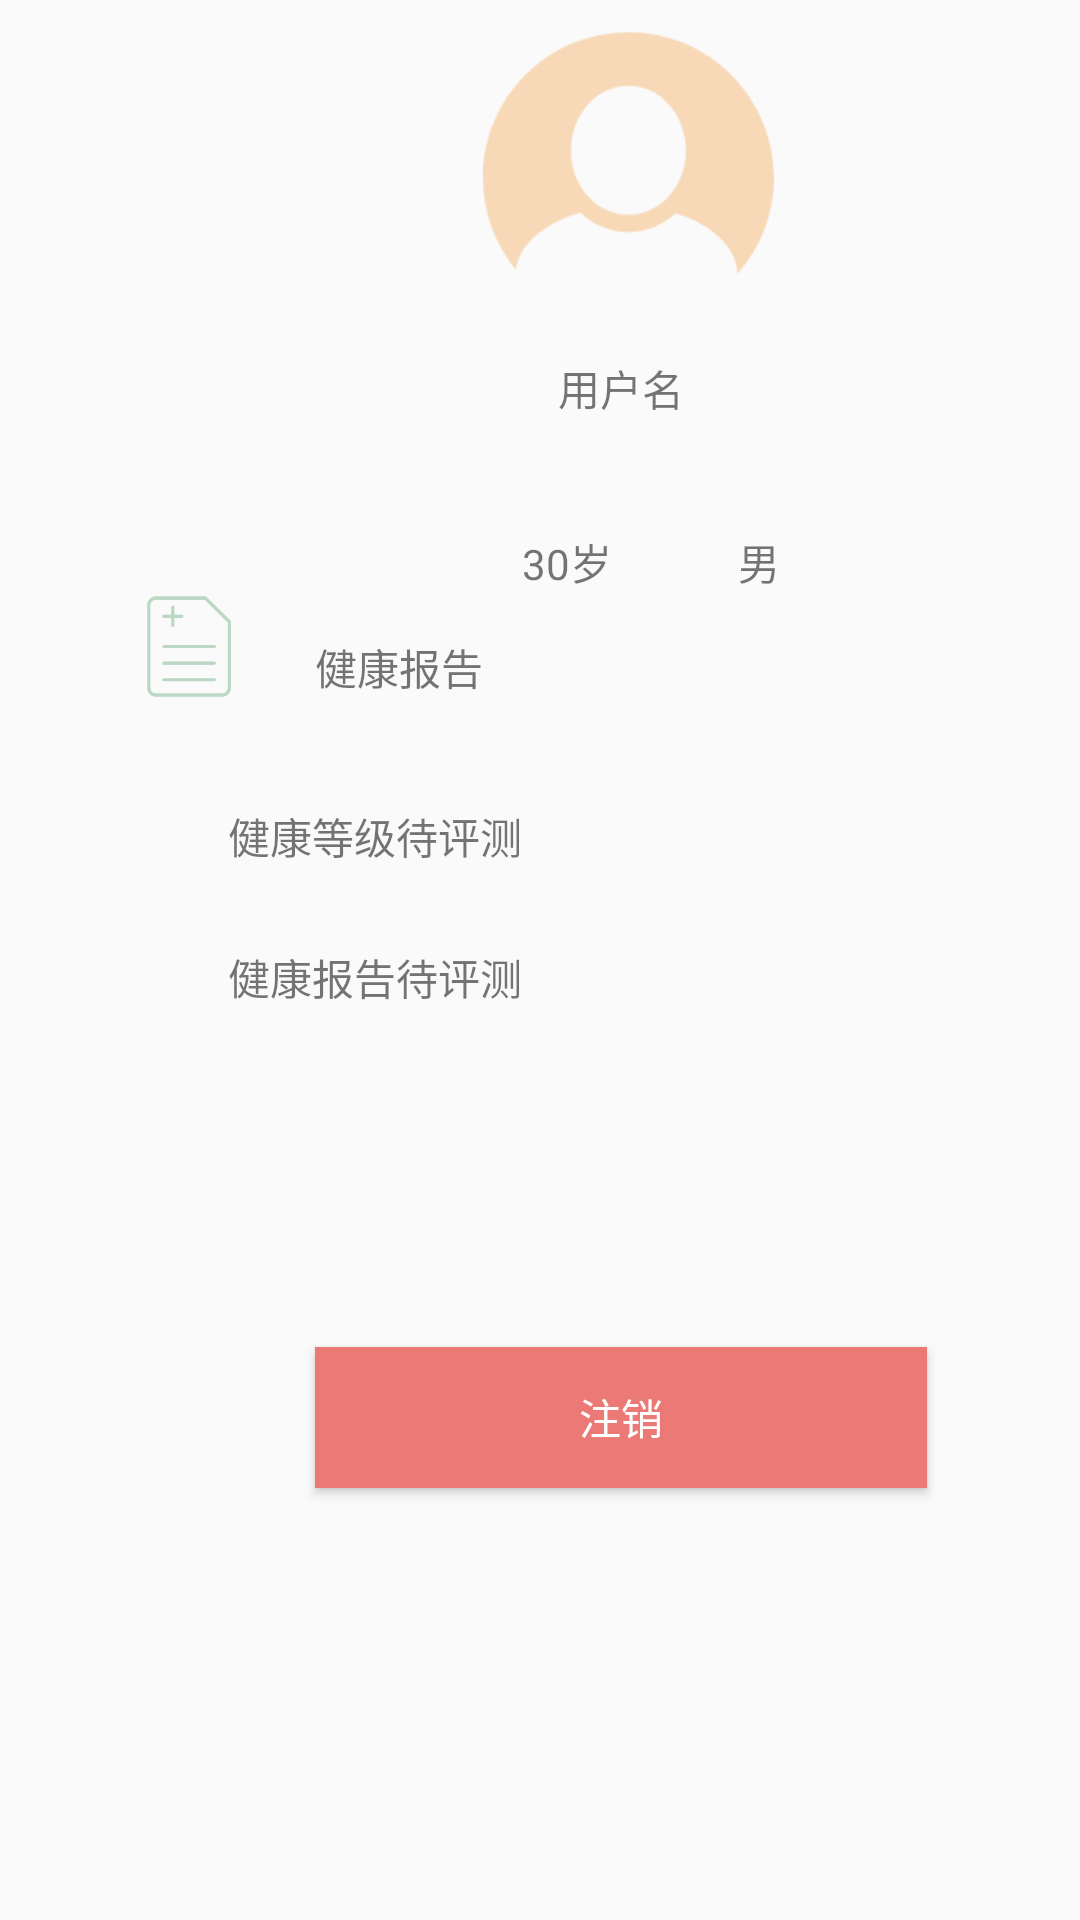

Named icons in this screenshot (1080px×1920px) and their bounding boxes, (x1, y1, x2, y2):
head: (483, 32, 774, 273)
reporticon: (147, 596, 231, 697)
